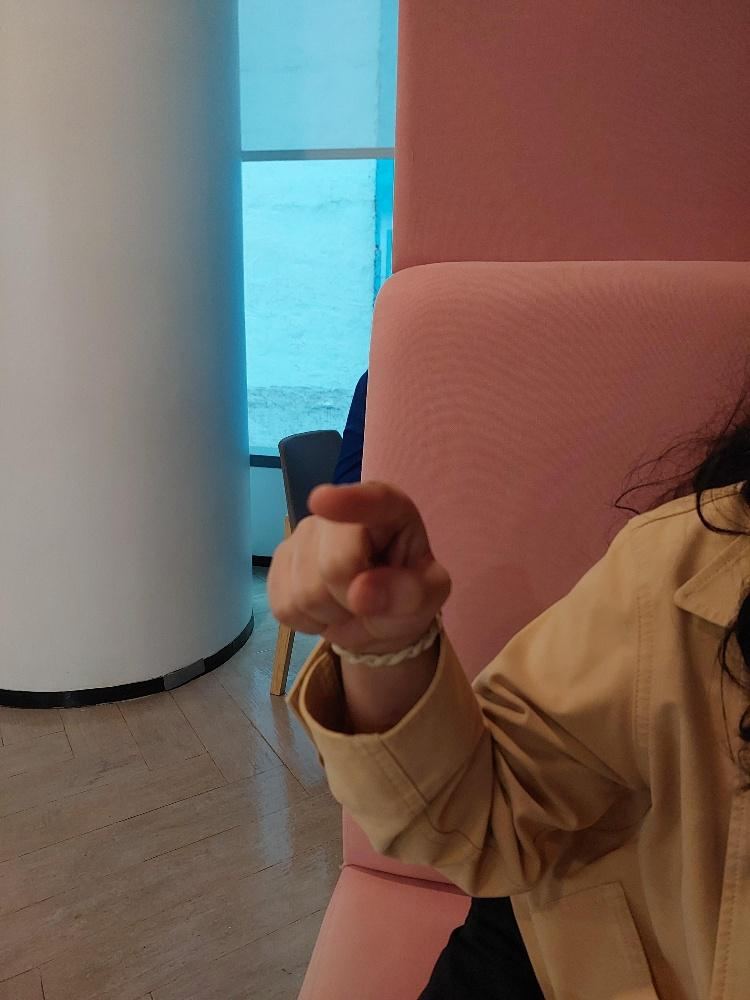z: (263, 475, 458, 665)
